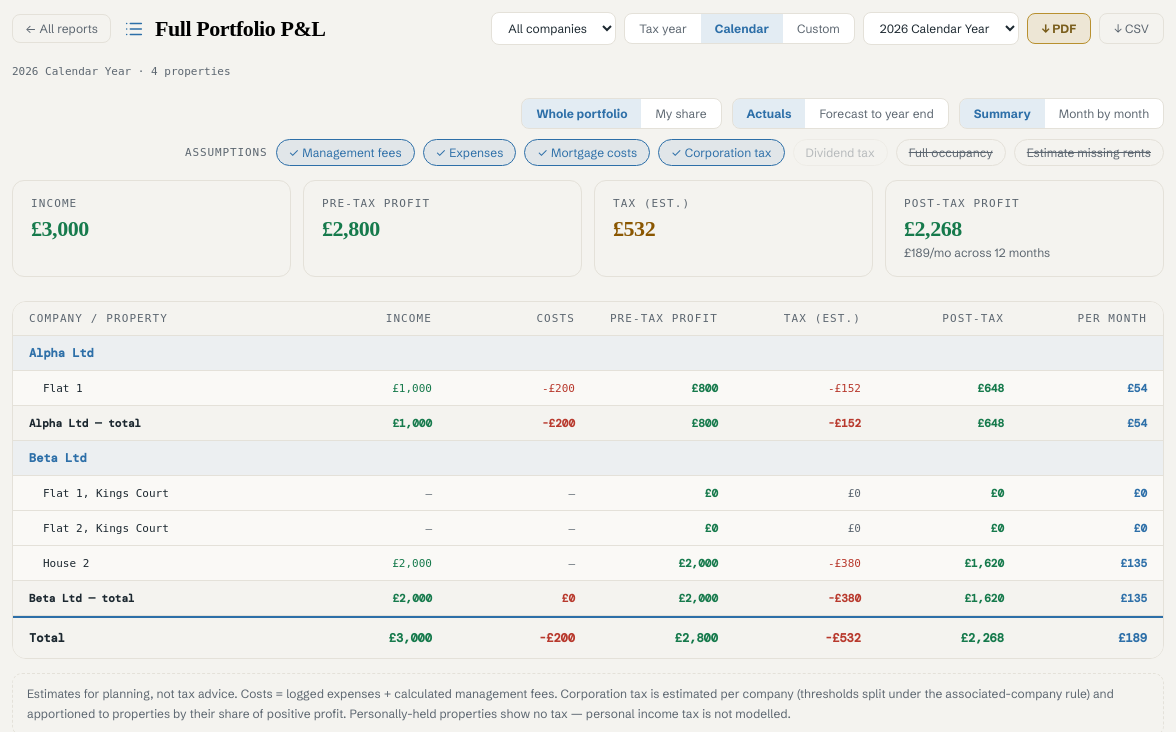
Scenario: All-companies period type default › does not clobber a manual pick made while on All companies
expect the text "Alpha Ltd — total" is shown: met, box x1=29 y1=416 x2=141 y2=430
Step 1. Click the button "Tax year" → (663, 28), box x1=625 y1=14 x2=701 y2=43
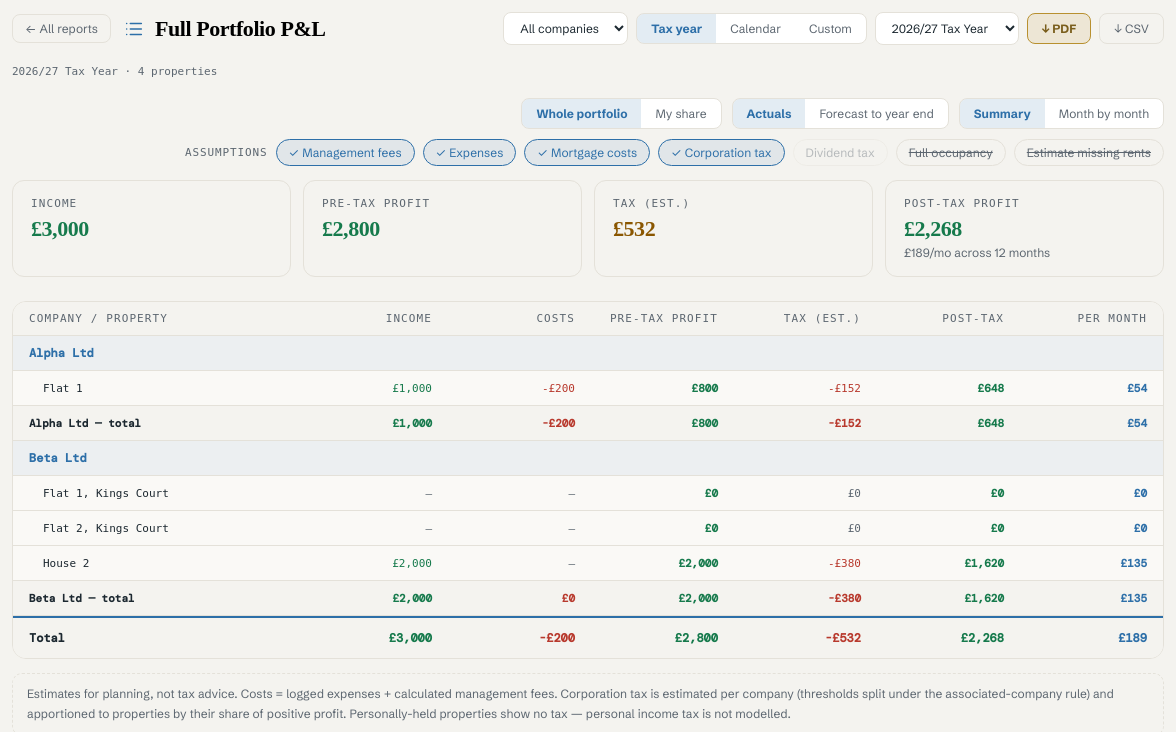
expect the text "Calendar Year" is gone: met
